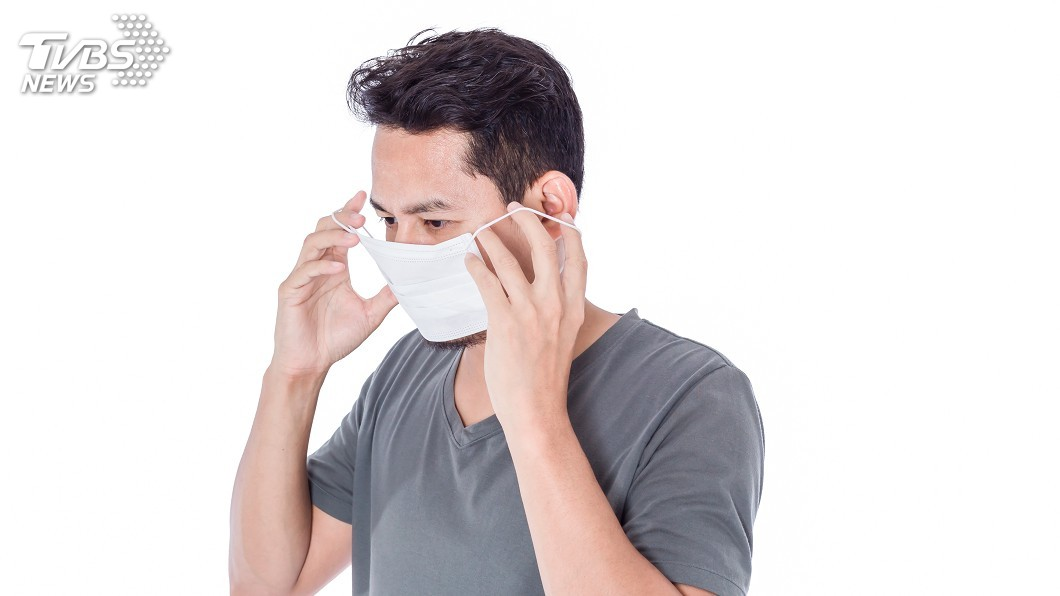Mask: (363, 120, 565, 346)
